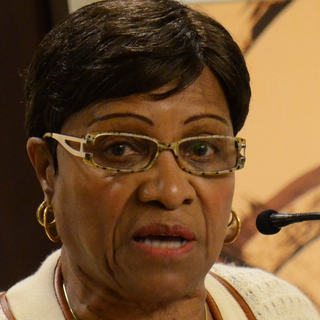eye: (182, 138, 223, 162), (99, 139, 139, 161)
